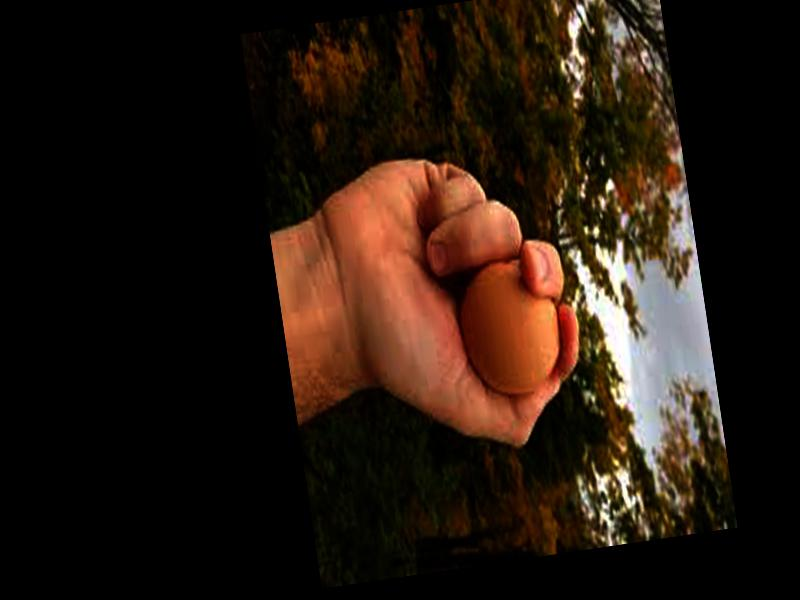Eggs: (452, 248, 567, 399)
